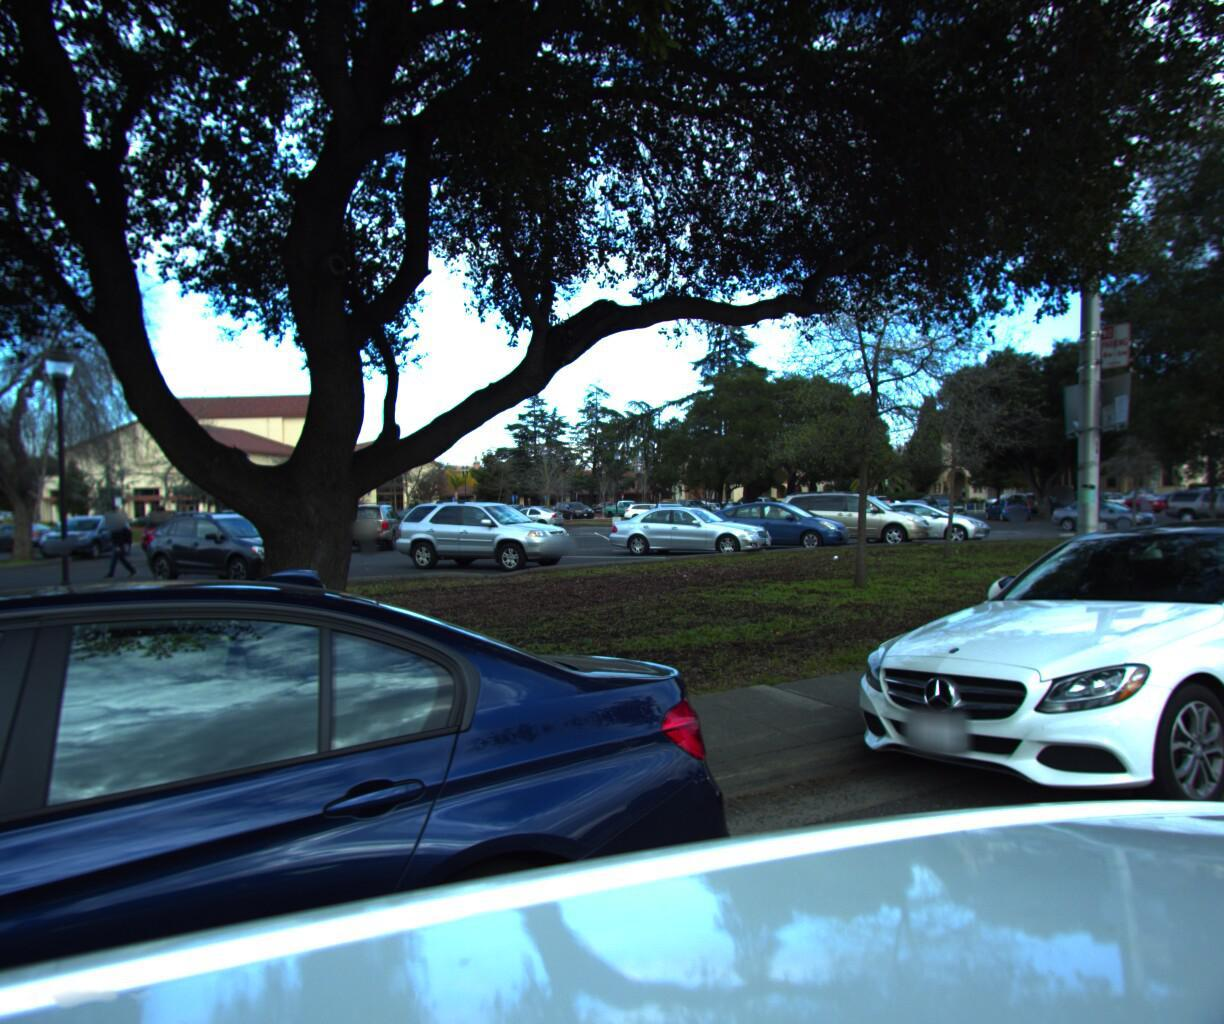car: (0, 535, 837, 1024), (815, 503, 1224, 884)
